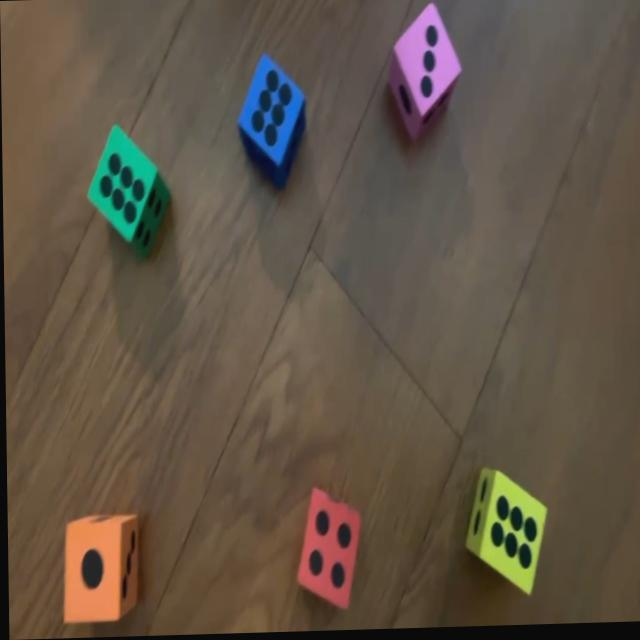blue_block: (236, 51, 305, 187)
red_block: (294, 485, 362, 609)
